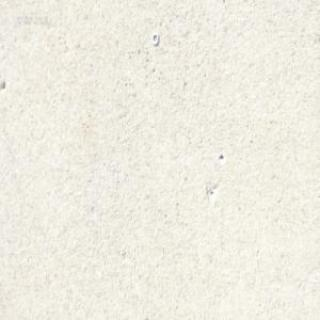Washertrack_idkeyframe: (150, 32, 158, 45)
